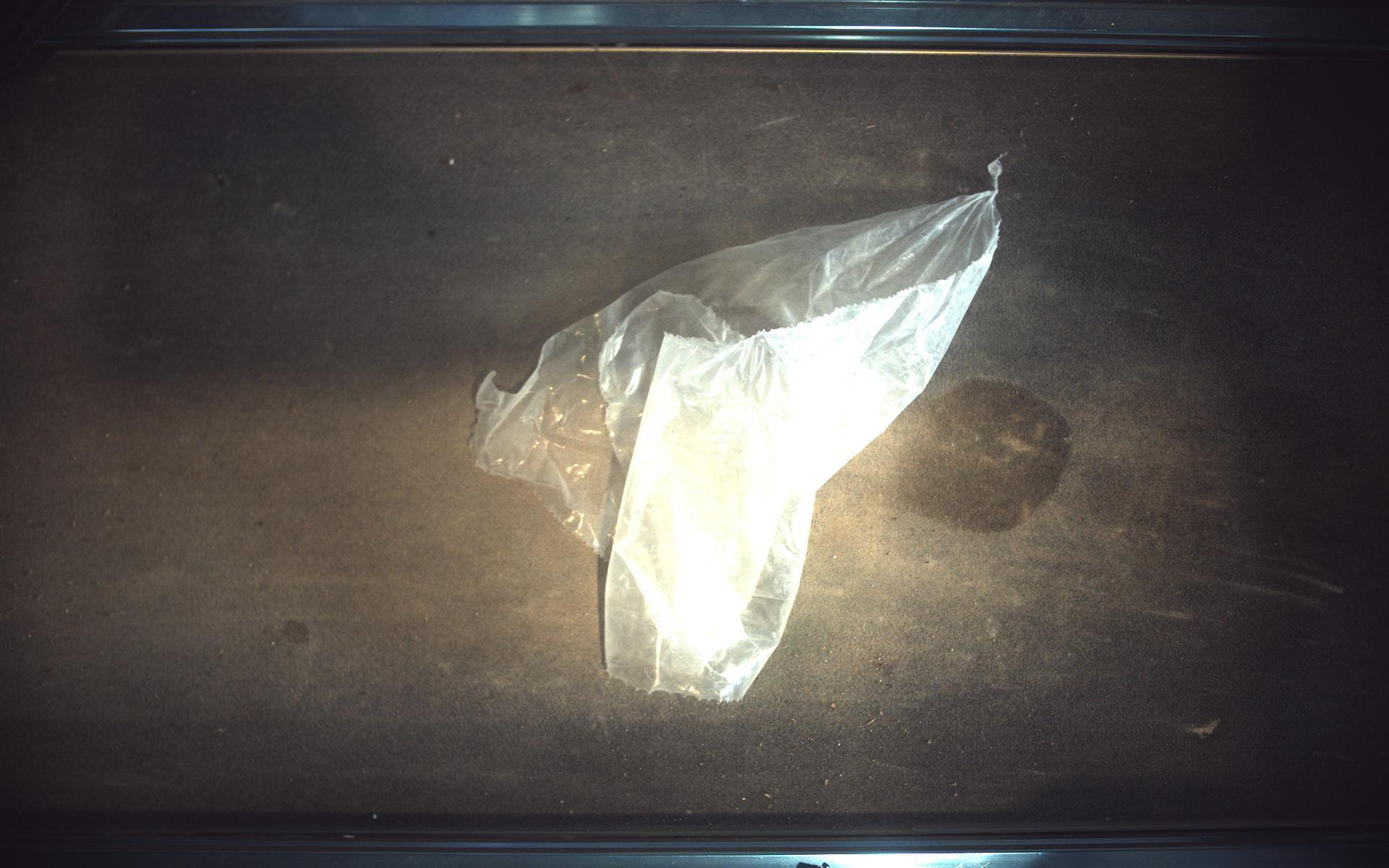general_w: (470, 159, 1004, 702)
